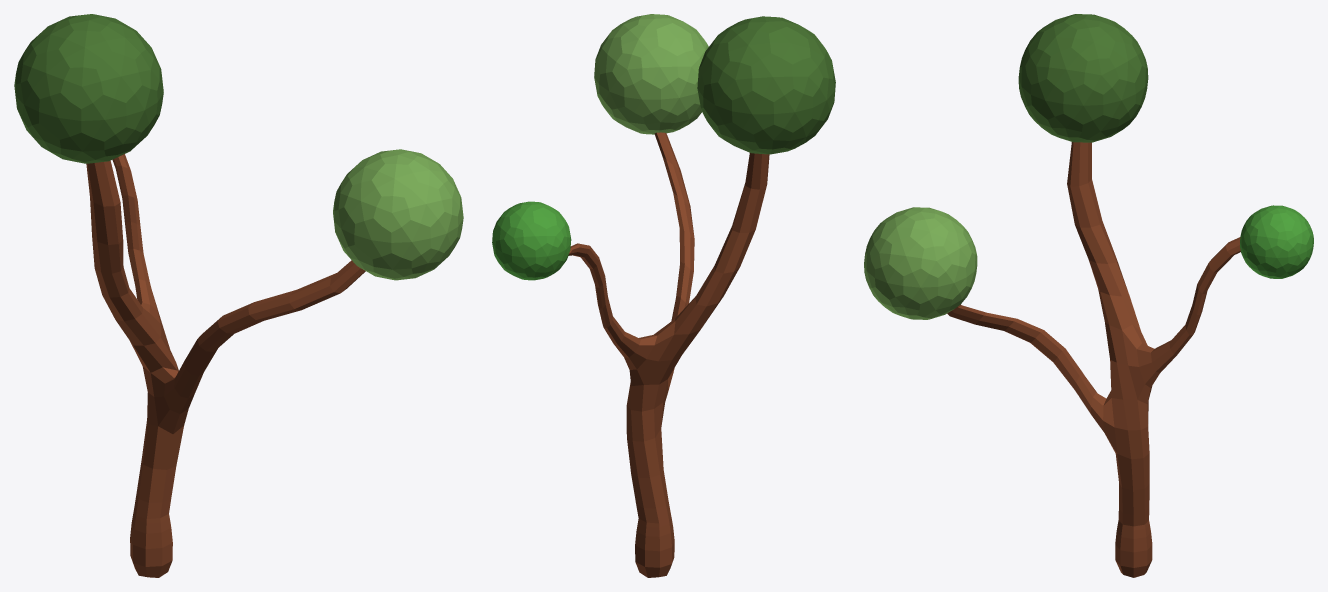
Rendered from tree4.fbx.
3 renders of one model, left to right at view 1: azimuth 30°, elevation 25°; view 2: azimuth 150°, elevation 25°; view 3: azimuth 270°, elevation 25°, orthographic. The views are drawn at different scales.
Parts seen in each view (by area): view 1: Tree4; view 2: Tree4; view 3: Tree4.
Boxes of the visible parts, x1,y1,x2,y2 form: Tree4: (14,14,463,577); Tree4: (492,14,835,577); Tree4: (864,14,1313,577).
Bounding box in the file's own units: 391 × 666 × 523.
